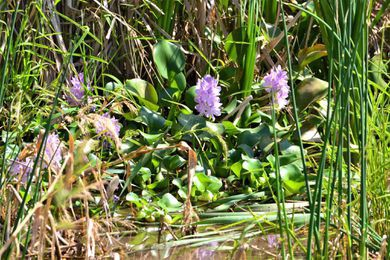water_hyacinth: (102, 37, 309, 207)
